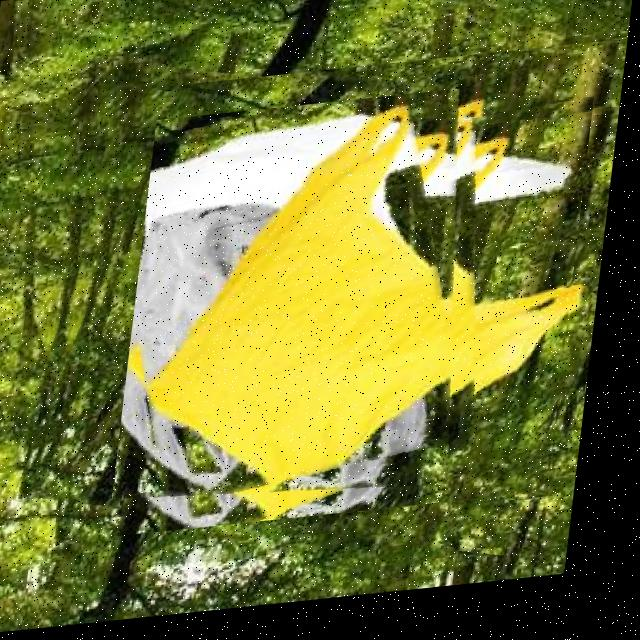litter: (27, 52, 630, 582), (127, 106, 597, 539), (122, 95, 497, 522)
